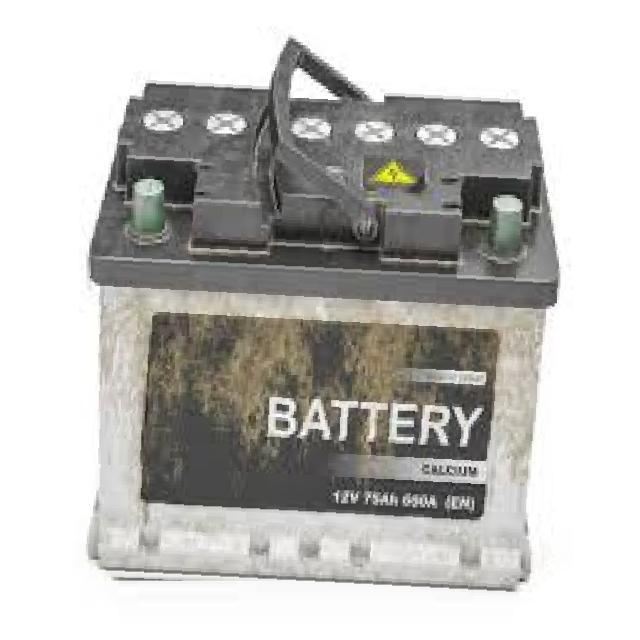Battery: (72, 14, 640, 636)
